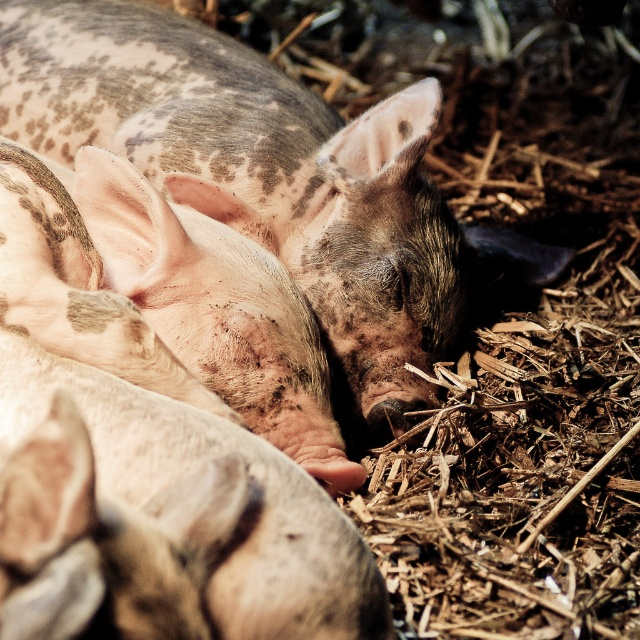Pig: (0, 0, 576, 639)
